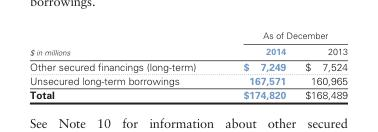table: (28, 29, 346, 100)
table column: (28, 29, 218, 100), (218, 29, 294, 100), (294, 29, 346, 100)
table column header: (28, 29, 346, 58)
table row: (28, 42, 346, 58), (28, 58, 346, 73), (28, 73, 346, 87), (28, 29, 346, 42), (28, 87, 346, 100)
table spanning cell: (28, 29, 218, 58), (218, 29, 346, 42)
